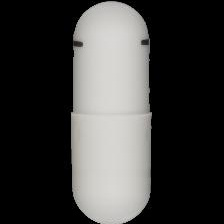61919-503: (0, 0, 224, 224)
